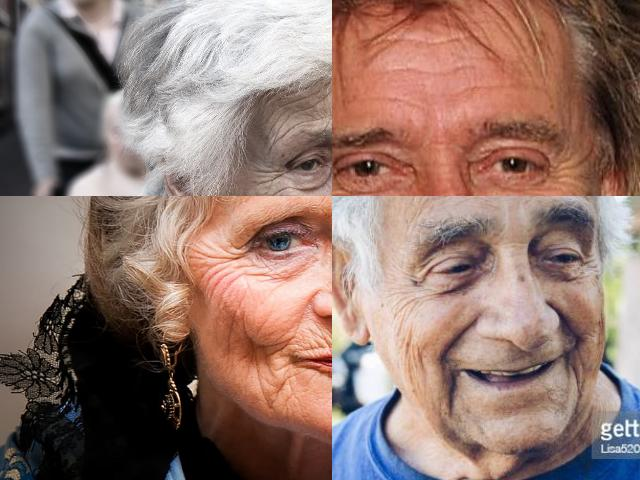crows_feet: (206, 236, 248, 282), (549, 150, 581, 194), (260, 160, 292, 190), (402, 268, 423, 296), (332, 167, 342, 196)
forehead: (400, 58, 474, 82), (394, 30, 462, 46), (380, 92, 426, 112), (456, 78, 502, 96), (270, 107, 290, 141), (296, 87, 316, 117)
gummy_smile: (442, 314, 478, 350), (295, 297, 313, 331), (566, 319, 584, 353)
masseter: (395, 324, 423, 370), (248, 326, 284, 356), (224, 304, 240, 354)
sad_smile: (440, 375, 460, 413), (568, 362, 586, 394), (276, 361, 290, 394)
smoker_lines: (322, 329, 332, 352)
